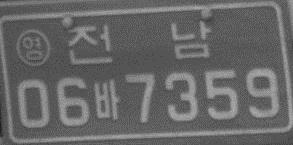0: (17, 79, 50, 128)
3: (164, 72, 198, 122)
5: (203, 68, 239, 121)
6: (56, 76, 89, 127)
7: (124, 73, 157, 123)
9: (244, 68, 280, 118)
바: (92, 79, 121, 120)
영: (15, 29, 50, 66)
전남_D: (64, 20, 211, 65)
